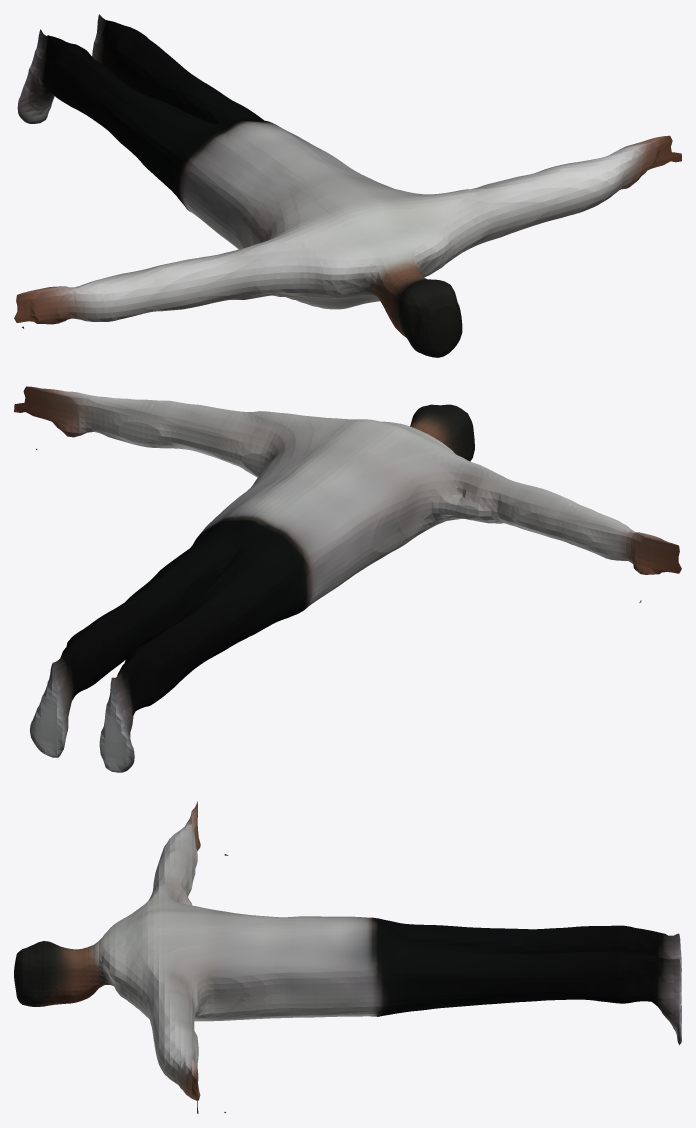
The model's file is man.obj.
The picture shows the model from 3 angles, top to bottom: view 1: azimuth 30°, elevation 25°; view 2: azimuth 150°, elevation 25°; view 3: azimuth 270°, elevation 25°; orthographic projection. The views are drawn at different scales.
Bounding box in the file's own units: 1.94 × 0.3465 × 1.89.
